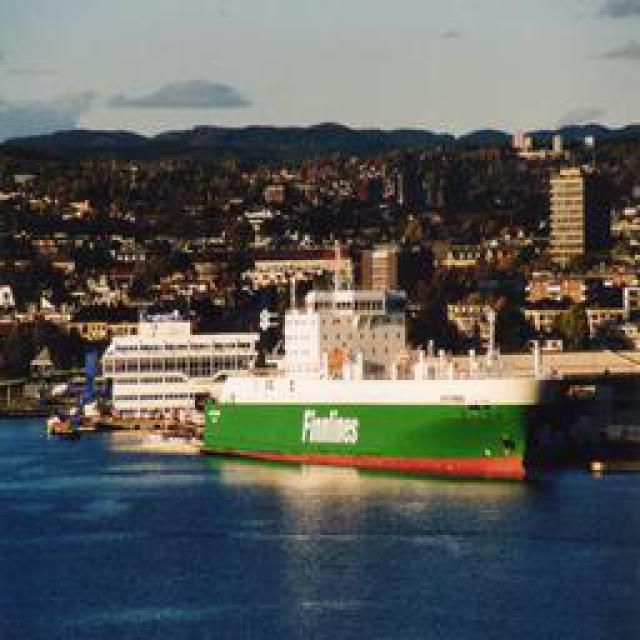Ship: (175, 249, 635, 472)
